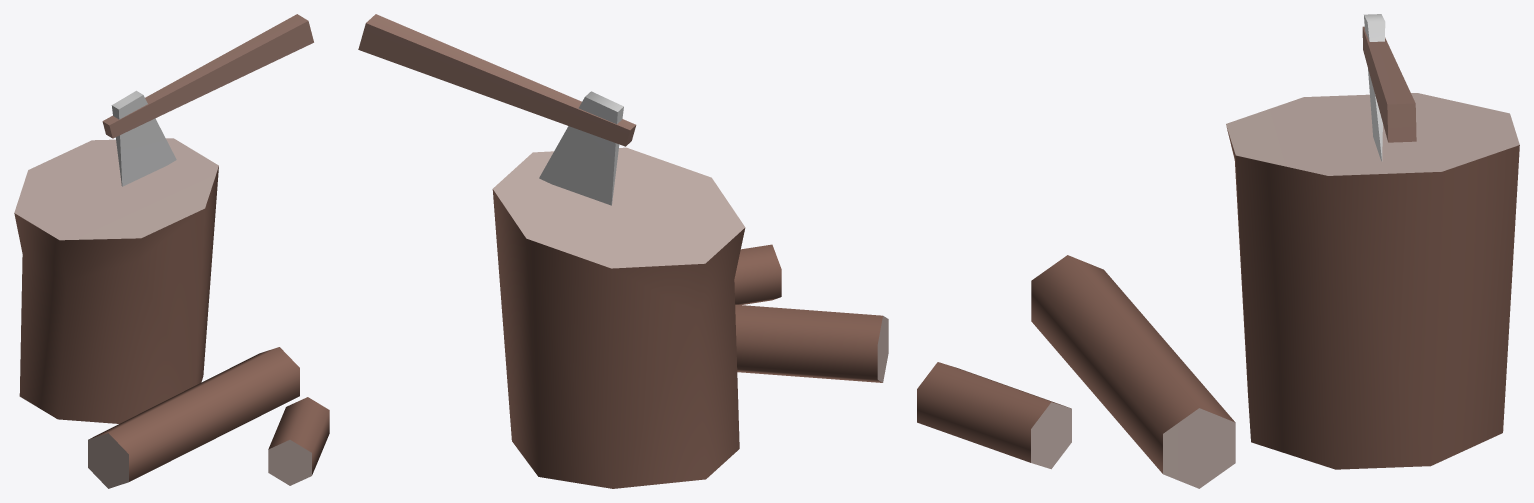
The model's file is log_002.glb.
3 views of the same model, side by side, from view 1: azimuth 30°, elevation 25°; view 2: azimuth 150°, elevation 25°; view 3: azimuth 270°, elevation 25° (orthographic). The views are drawn at different scales.
Visible parts, largest first — view 1: log_002; view 2: log_002; view 3: log_002.
Boxes of the visible parts, left/top/right/bottom form: log_002: left=14, top=14, right=329, bottom=488; log_002: left=358, top=14, right=888, bottom=488; log_002: left=917, top=14, right=1519, bottom=488.
Bounding box in the file's own units: 0.8043 × 0.7398 × 0.8941.
Materials: 1 (1 with a texture image).
